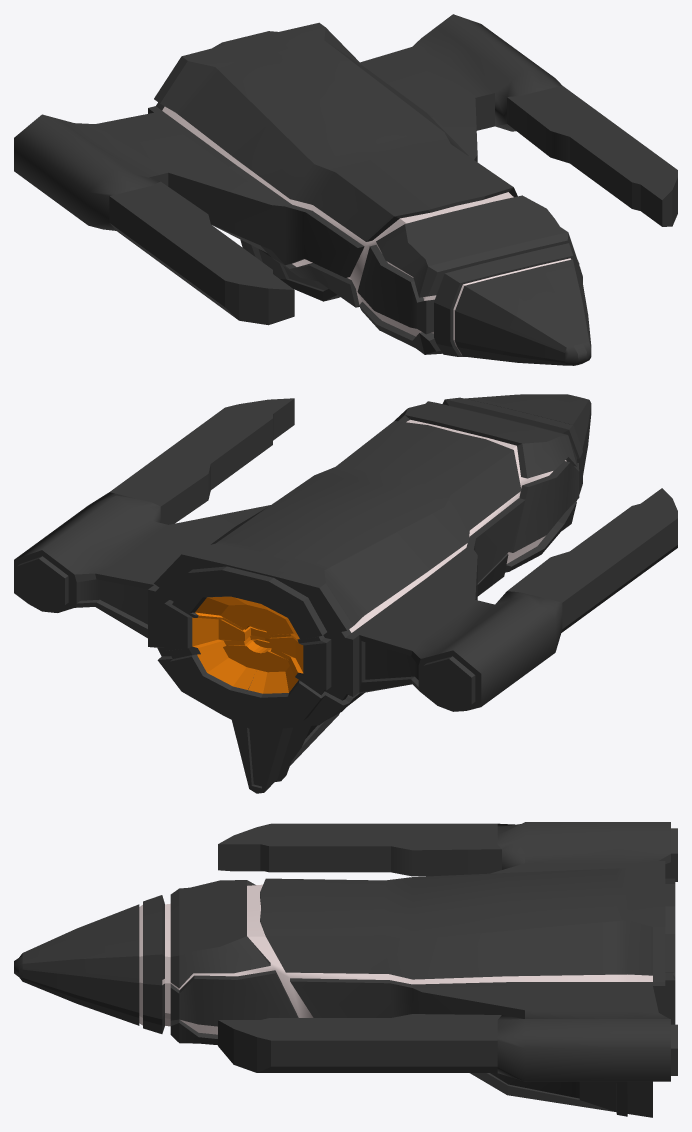
Rendered from navicella_1.fbx.
3 views of the same model, one above another, from view 1: azimuth 30°, elevation 25°; view 2: azimuth 150°, elevation 25°; view 3: azimuth 270°, elevation 25° (orthographic).
Parts seen in each view (by area): view 1: pCube3; view 2: pCube3; view 3: pCube3.
Boxes of the visible parts, x1,y1,x2,y2 form: pCube3: (14,14,677,365); pCube3: (14,394,677,793); pCube3: (14,822,677,1117).
Size of the model in its own units: 477 by 223 by 599.
